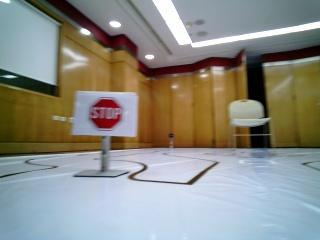stop: (79, 96, 129, 133)
